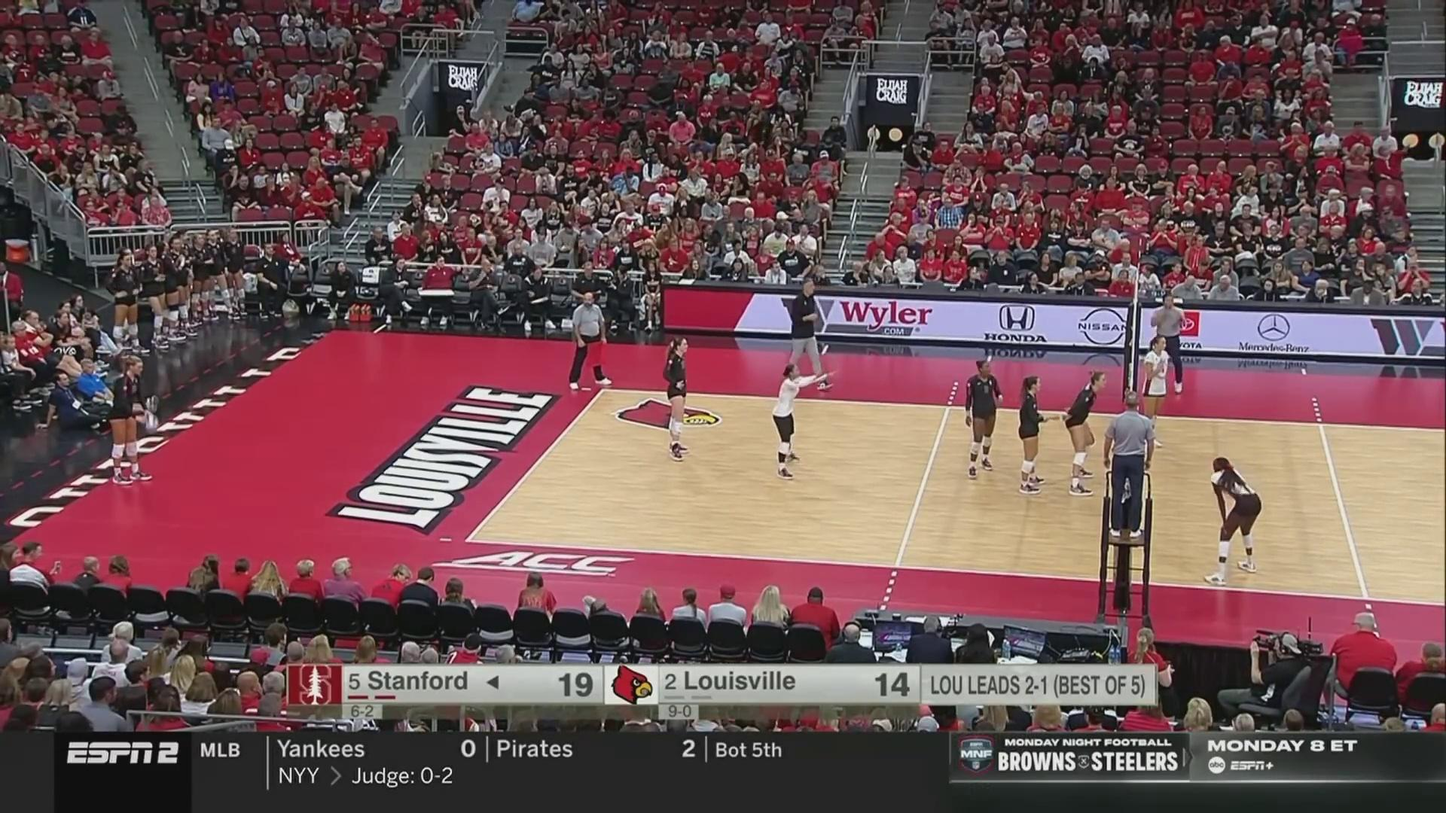player: (1204, 457, 1260, 583), (774, 364, 832, 479), (111, 358, 154, 484), (1066, 369, 1106, 494), (1018, 375, 1057, 495), (963, 359, 1000, 480), (664, 336, 692, 459), (1141, 339, 1170, 451)
refree: (1104, 392, 1154, 539), (569, 291, 611, 390), (1152, 297, 1187, 397)
